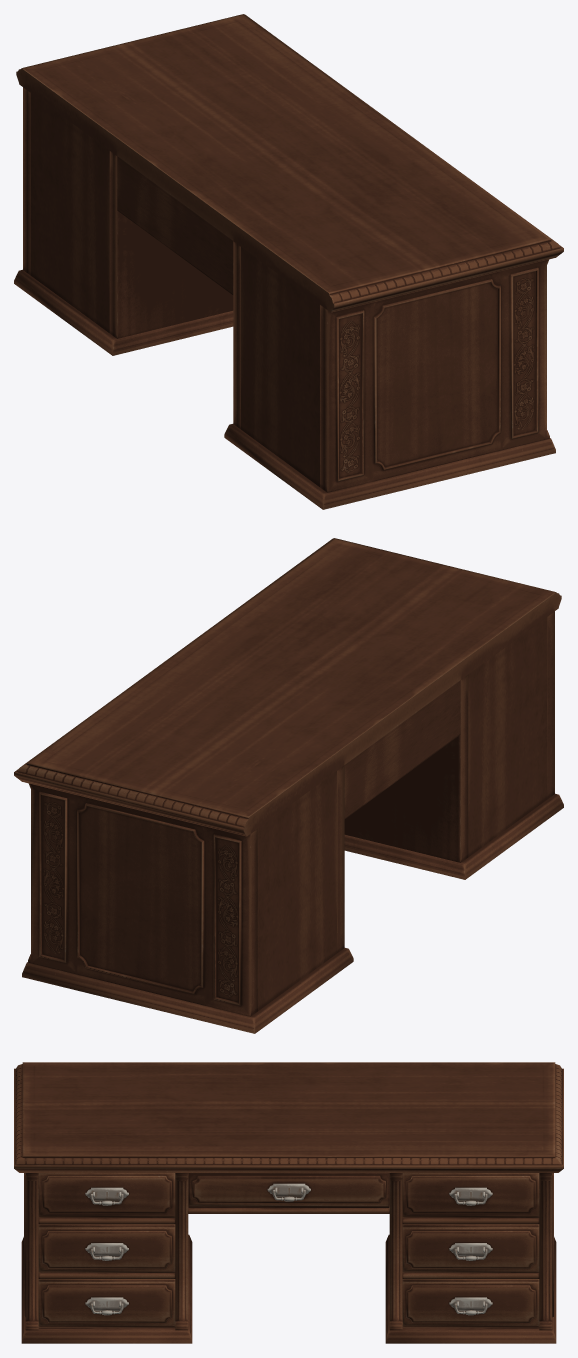
The picture shows the model from 3 angles, top to bottom: view 1: azimuth 30°, elevation 25°; view 2: azimuth 150°, elevation 25°; view 3: azimuth 270°, elevation 25°; orthographic projection. The views are drawn at different scales.
Parts seen in each view (by area): view 1: plane_lp.001; view 2: plane_lp.001; view 3: plane_lp.001, handle2_lp.001, handle2_lp.002, handle2_lp.003, handle2_lp.004, handle1_lp.001, handle1_lp.003.
Boxes of the visible parts, bbox=[...] form: plane_lp.001: bbox=[14, 14, 563, 509]; plane_lp.001: bbox=[14, 538, 563, 1033]; plane_lp.001: bbox=[14, 1062, 563, 1343]; handle2_lp.001: bbox=[38, 1224, 175, 1272]; handle2_lp.002: bbox=[38, 1279, 175, 1327]; handle2_lp.003: bbox=[402, 1224, 539, 1272]; handle2_lp.004: bbox=[402, 1279, 539, 1327]; handle1_lp.001: bbox=[38, 1173, 175, 1217]; handle1_lp.003: bbox=[402, 1173, 539, 1217].
Size of the model in its own units: 0.92 by 0.7966 by 2.14.
Materials: 1 (1 with a texture image).
